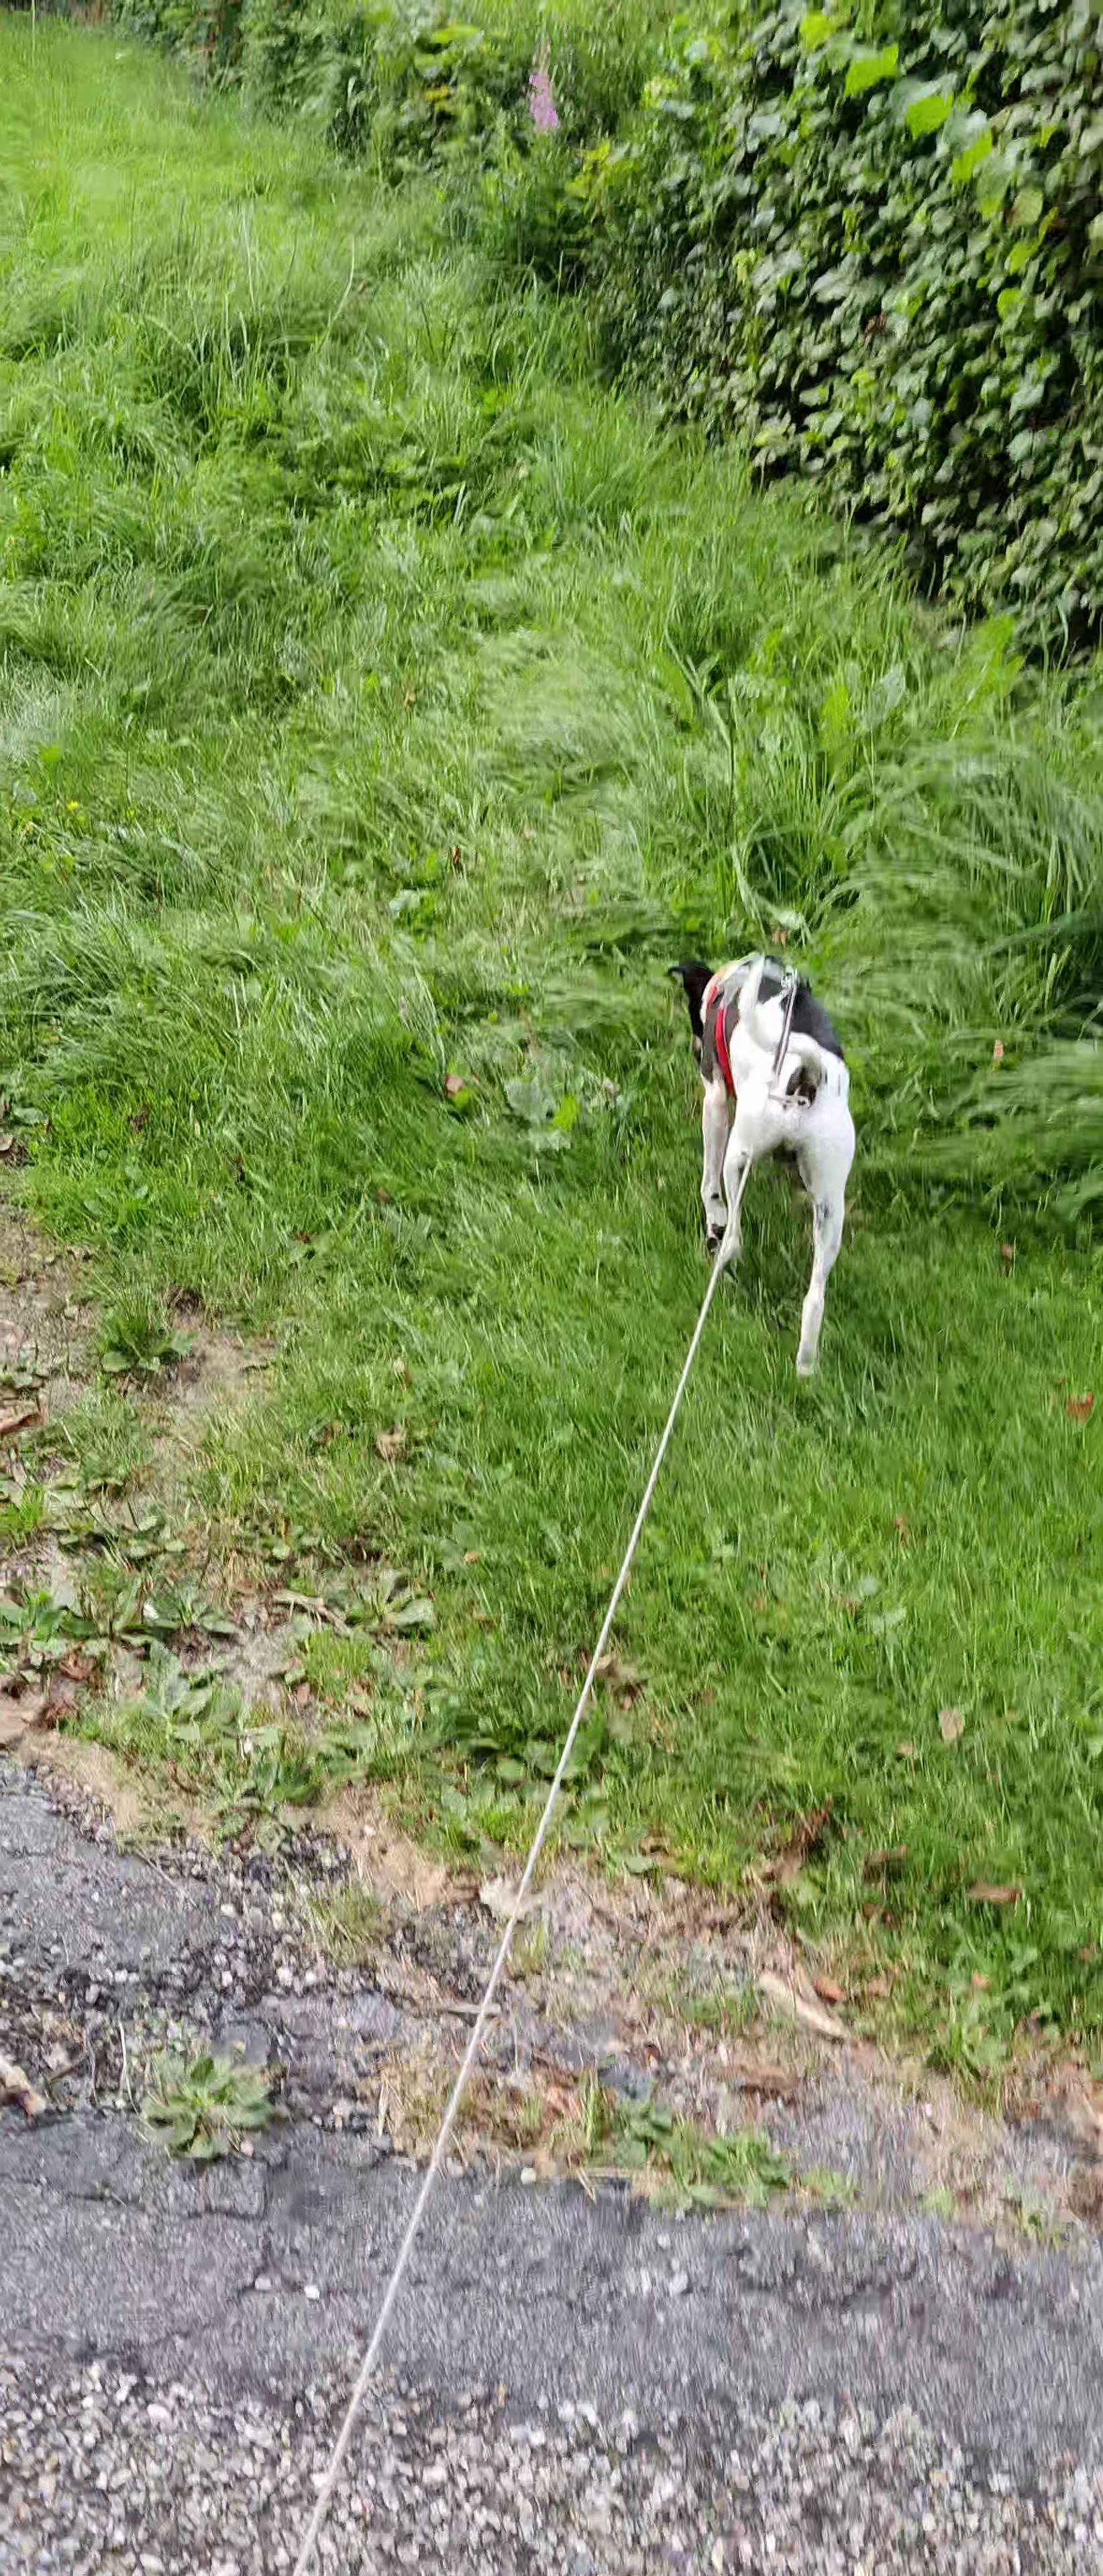Dog: (656, 940, 863, 1383)
